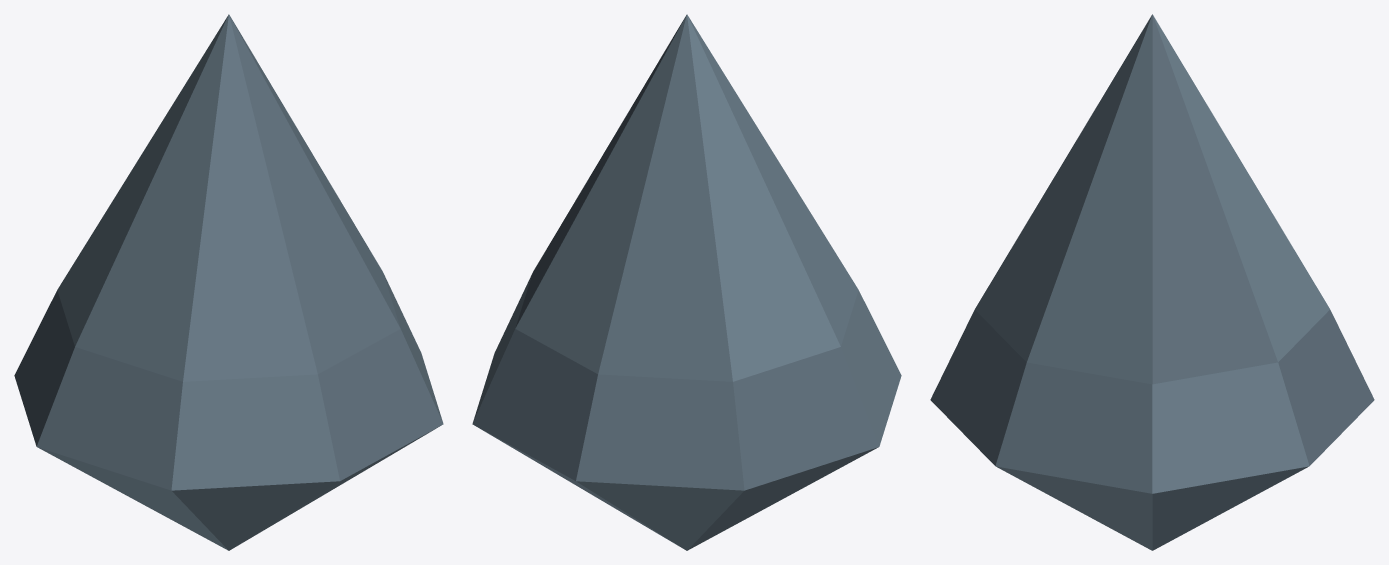
The model's file is P29_Diamond.fbx.
The picture shows the model from 3 angles, left to right: view 1: azimuth 30°, elevation 25°; view 2: azimuth 150°, elevation 25°; view 3: azimuth 270°, elevation 25°; orthographic projection.
Parts seen in each view (by area): view 1: P29_Diamond; view 2: P29_Diamond; view 3: P29_Diamond.
Boxes of the visible parts, x1,y1,x2,y2 form: P29_Diamond: [14, 14, 443, 550]; P29_Diamond: [472, 14, 901, 550]; P29_Diamond: [930, 14, 1374, 550].
Bounding box in the file's own units: 1.2 × 1.6 × 1.2.
1 material, 1 textured.
